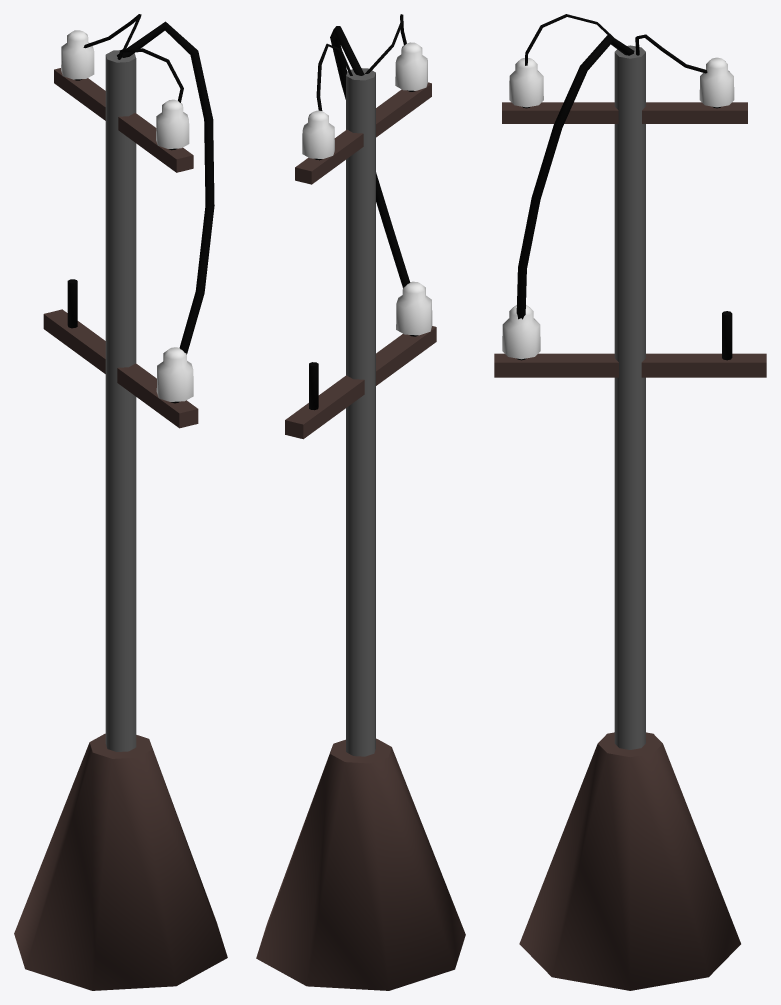
File: Electricity.fbx
The picture shows the model from 3 angles, left to right: view 1: azimuth 30°, elevation 25°; view 2: azimuth 150°, elevation 25°; view 3: azimuth 270°, elevation 25°; orthographic projection. The views are drawn at different scales.
Visible parts, largest first — view 1: Cylinder.001; view 2: Cylinder.001; view 3: Cylinder.001.
Part boxes in pixels (x1,y1,x2,y2): Cylinder.001: (14, 14, 227, 990); Cylinder.001: (256, 14, 465, 990); Cylinder.001: (494, 14, 766, 990).
Bounding box in the file's own units: 24.13 × 111 × 29.63.
